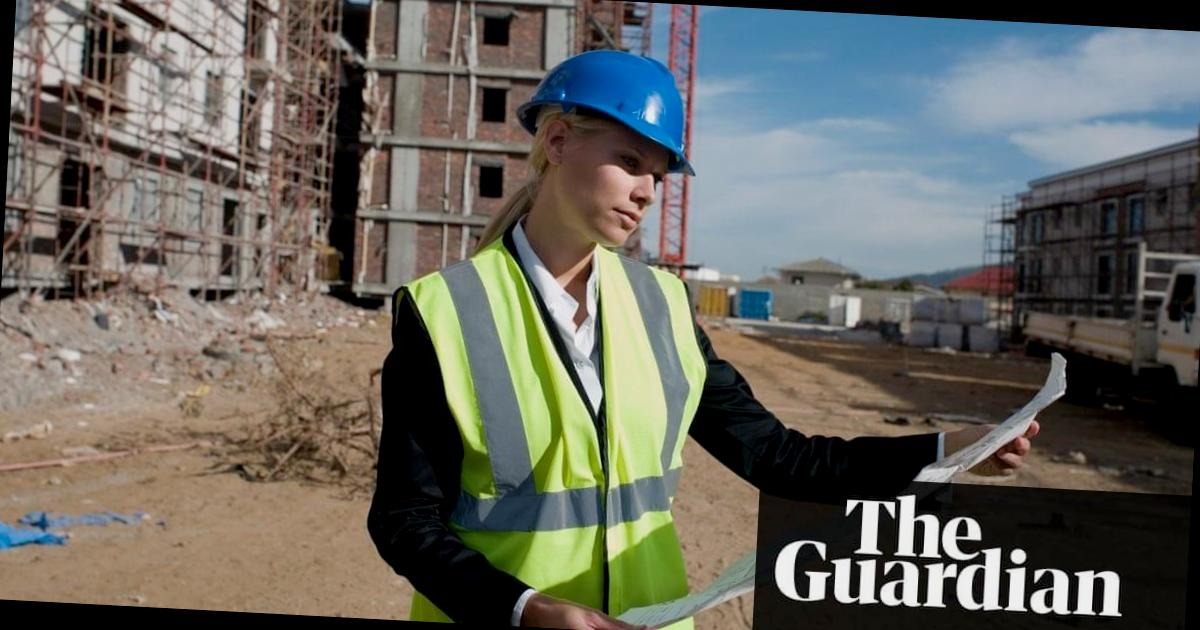helmet: (522, 42, 697, 176)
person: (358, 33, 730, 630)
